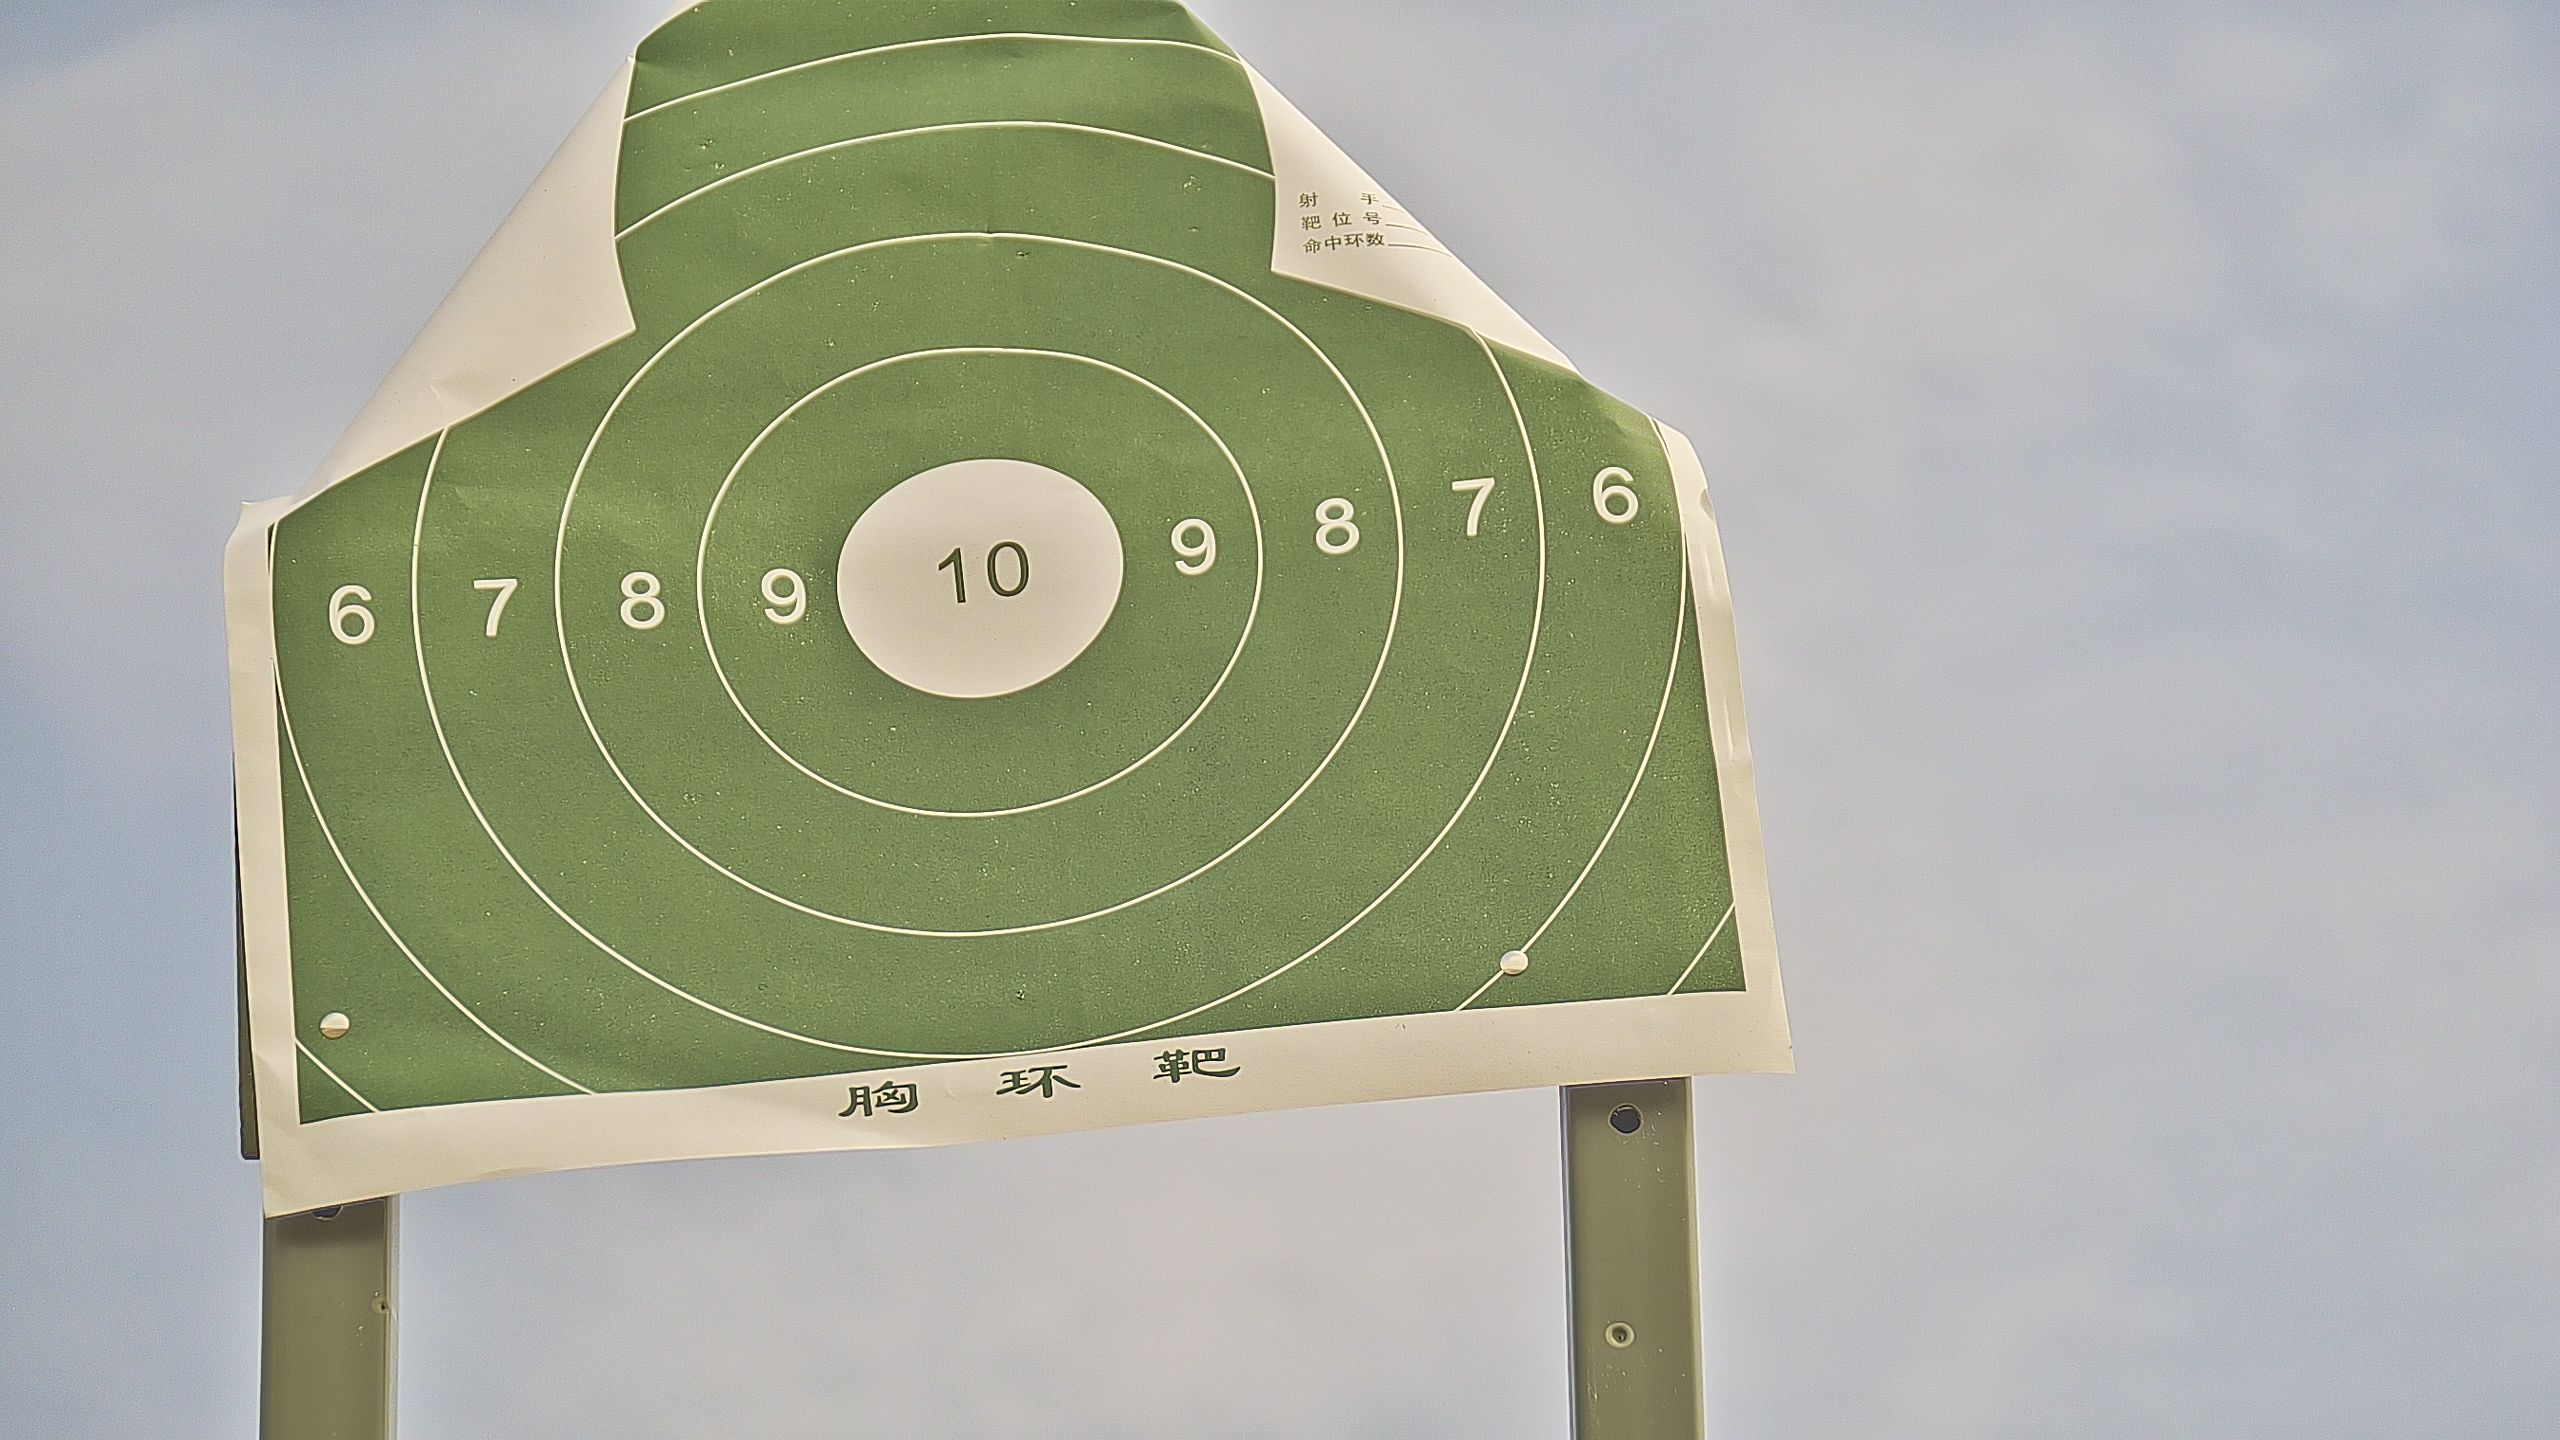kernel: (971, 573, 978, 577)
target: (265, 5, 1755, 1118)
ten: (832, 454, 1125, 702)
